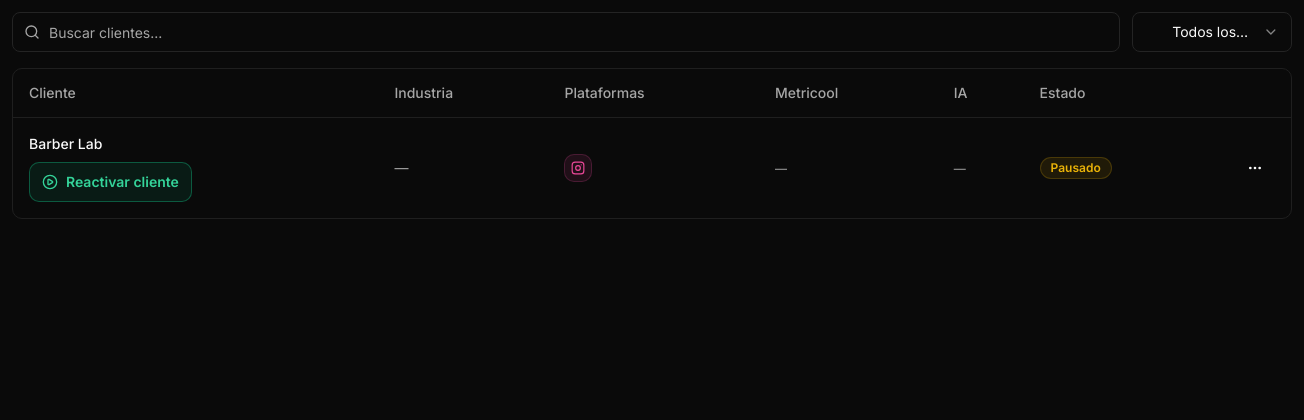
ClientTable — pausar › un cliente pausado ofrece reactivar, no pausar
Click the button named "acciones".
click(1255, 168)  # box x1=1235 y1=148 x2=1275 y2=188
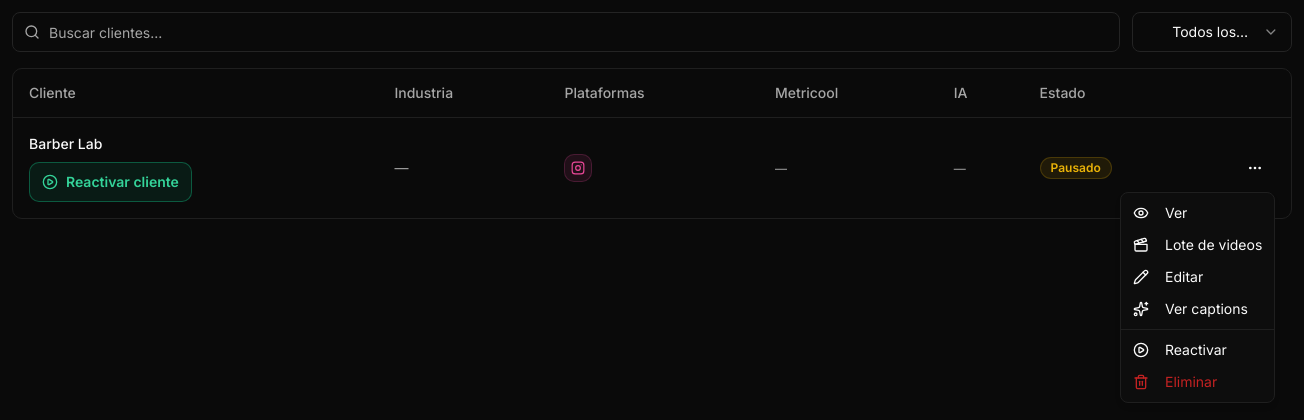
Result: the menu item "Reactivar" is shown at x1=1133 y1=341 x2=1227 y2=358
